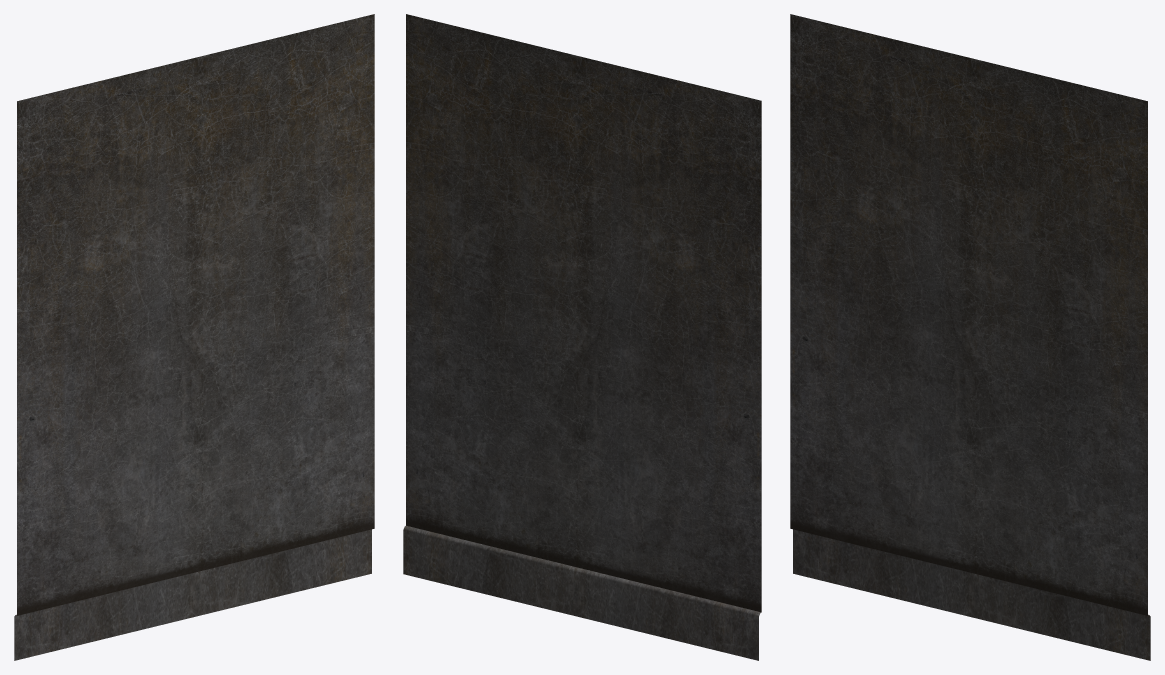
File: Basement_Corridor_D_Wall_2m.glb
The picture shows the model from 3 angles, left to right: view 1: azimuth 30°, elevation 25°; view 2: azimuth 150°, elevation 25°; view 3: azimuth 330°, elevation 25°; orthographic projection.
Visible parts, largest first — view 1: Basement_Corridor_D_Wall_2m; view 2: Basement_Corridor_D_Wall_2m; view 3: Basement_Corridor_D_Wall_2m.
Part boxes in pixels (x1=…): Basement_Corridor_D_Wall_2m: x1=14, y1=14, x2=374, y2=660; Basement_Corridor_D_Wall_2m: x1=403, y1=14, x2=761, y2=660; Basement_Corridor_D_Wall_2m: x1=790, y1=14, x2=1150, y2=660.
Size of the model in its own units: 2 by 3 by 0.0256.
2 materials, 2 textured.
